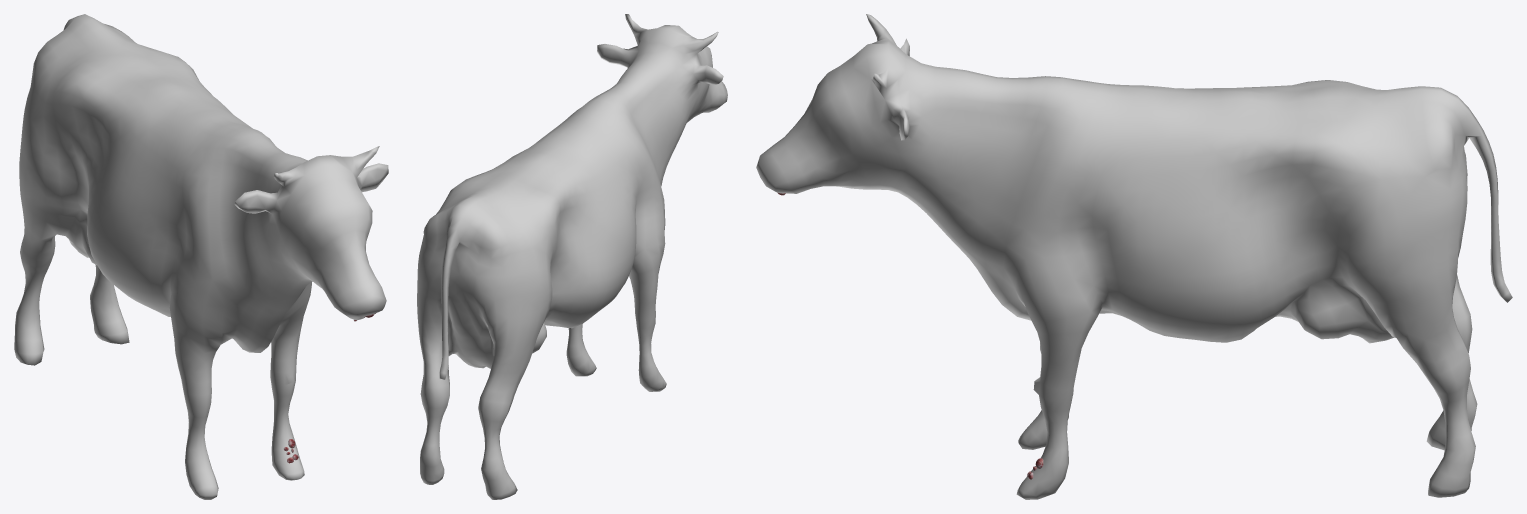
The model's file is infiction_cow.fbx.
3 renders of one model, left to right at view 1: azimuth 30°, elevation 25°; view 2: azimuth 150°, elevation 25°; view 3: azimuth 270°, elevation 25°, orthographic. The views are drawn at different scales.
Visible parts, largest first — view 1: Dairy_cow; view 2: Dairy_cow; view 3: Dairy_cow.
Part boxes in pixels (x1,y1,x2,y2): Dairy_cow: [14, 14, 388, 499]; Dairy_cow: [417, 14, 727, 499]; Dairy_cow: [756, 14, 1512, 499].
Bounding box in the file's own units: 82.19 × 192 × 303.
